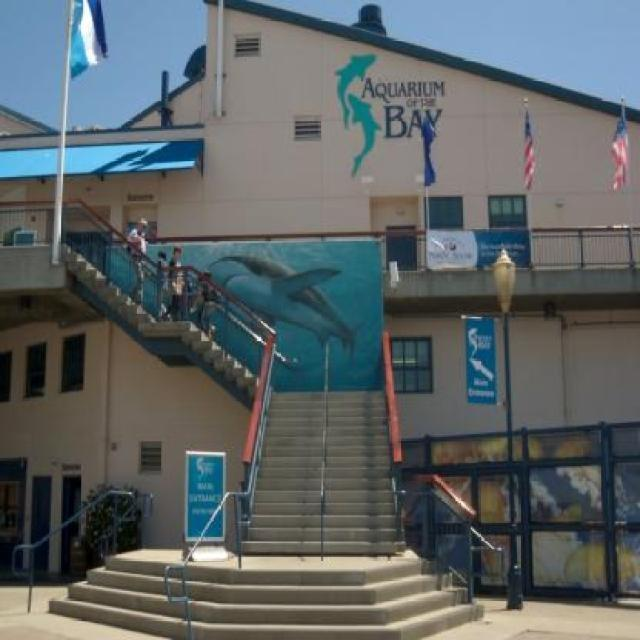stair: (48, 551, 484, 640), (235, 384, 408, 562), (64, 243, 258, 392)
